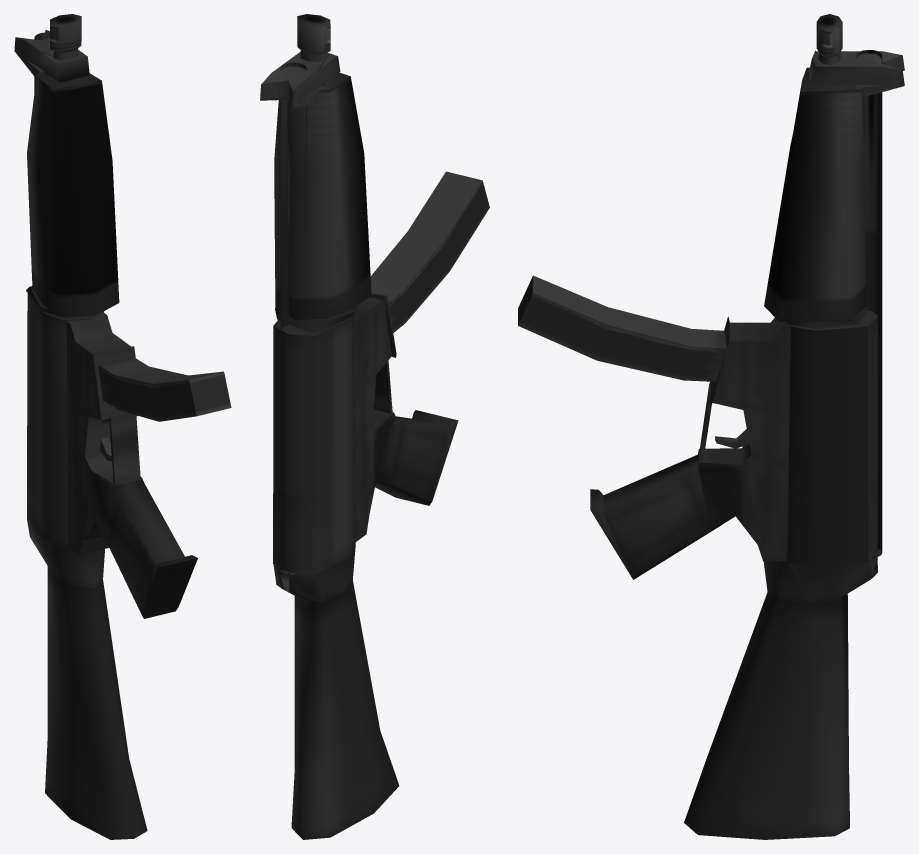
3 views of the same model, side by side, from view 1: azimuth 30°, elevation 25°; view 2: azimuth 150°, elevation 25°; view 3: azimuth 270°, elevation 25° (orthographic). The views are drawn at different scales.
Parts seen in each view (by area): view 1: node_9dd0f6f6_31ed_4a20_9721_c0e673ea2e27_mesh0; view 2: node_9dd0f6f6_31ed_4a20_9721_c0e673ea2e27_mesh0; view 3: node_9dd0f6f6_31ed_4a20_9721_c0e673ea2e27_mesh0.
Boxes of the visible parts, bbox=[...] form: node_9dd0f6f6_31ed_4a20_9721_c0e673ea2e27_mesh0: bbox=[14, 14, 231, 839]; node_9dd0f6f6_31ed_4a20_9721_c0e673ea2e27_mesh0: bbox=[260, 14, 489, 839]; node_9dd0f6f6_31ed_4a20_9721_c0e673ea2e27_mesh0: bbox=[518, 14, 904, 839].
Size of the model in its own units: 0.0308 by 0.3675 by 0.1596.
